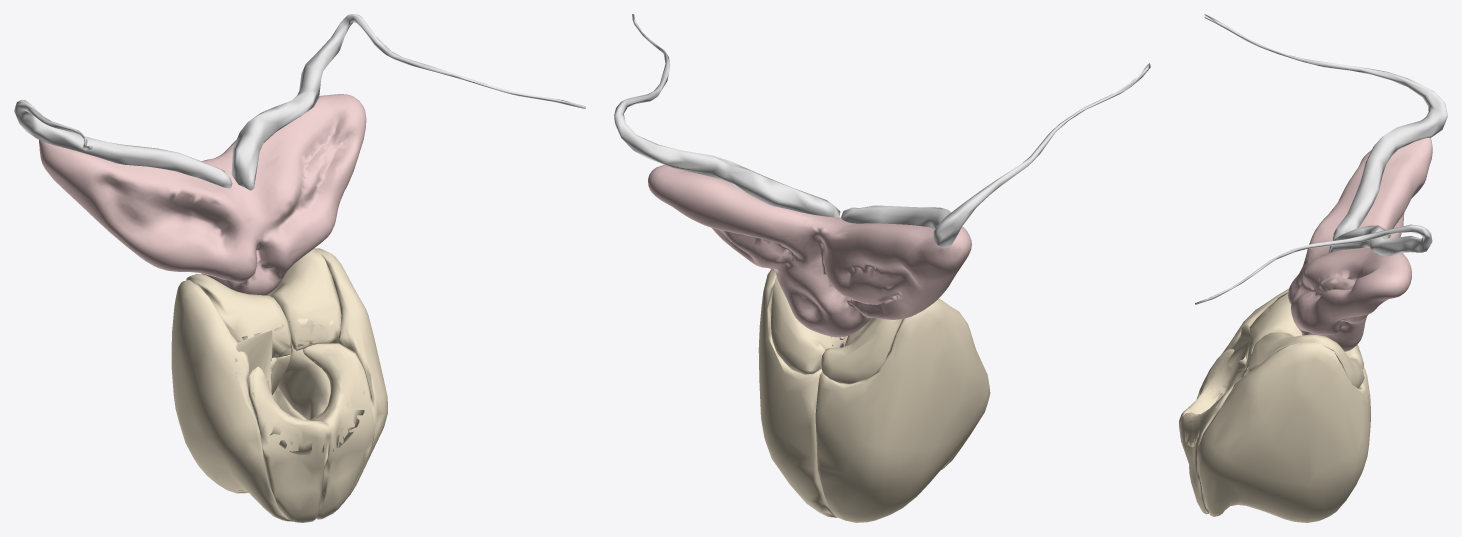
The model's file is vh_m_prostate-40.fbx.
3 views of the same model, side by side, from view 1: azimuth 30°, elevation 25°; view 2: azimuth 150°, elevation 25°; view 3: azimuth 270°, elevation 25° (orthographic). The views are drawn at different scales.
Parts seen in each view (by area): view 1: VH_M_seminal_vesicle, VH_M_peripheral_zone_of_prostate_R, VH_M_anterior_fibromuscular_stroma_R, VH_M_anterior_fibromuscular_stroma_L, VH_M_vas_deferens_R, VH_M_base_of_prostate, VH_M_vas_deferens_L, VH_M_central_zone_of_prostate_L, VH_M_peripheral_zone_of_prostate_L, VH_M_central_zone_of_prostate_R, VH_M_transition_zone__of_prostate_L; view 2: VH_M_peripheral_zone_of_prostate_R, VH_M_seminal_vesicle, VH_M_peripheral_zone_of_prostate_L, VH_M_vas_deferens_R, VH_M_vas_deferens_L, VH_M_central_zone_of_prostate_R, VH_M_central_zone_of_prostate_L; view 3: VH_M_peripheral_zone_of_prostate_L, VH_M_seminal_vesicle, VH_M_vas_deferens_L, VH_M_vas_deferens_R, VH_M_central_zone_of_prostate_L, VH_M_base_of_prostate, VH_M_central_zone_of_prostate_R, VH_M_anterior_fibromuscular_stroma_L, VH_M_anterior_fibromuscular_stroma_R, VH_M_peripheral_zone_of_prostate_R.
Part boxes in pixels (x1=…): VH_M_seminal_vesicle: x1=39, y1=94, x2=366, y2=295; VH_M_peripheral_zone_of_prostate_R: x1=171, y1=280, x2=293, y2=521; VH_M_anterior_fibromuscular_stroma_R: x1=248, y1=357, x2=329, y2=522; VH_M_anterior_fibromuscular_stroma_L: x1=303, y1=343, x2=375, y2=519; VH_M_vas_deferens_R: x1=231, y1=14, x2=585, y2=190; VH_M_base_of_prostate: x1=235, y1=317, x2=364, y2=454; VH_M_vas_deferens_L: x1=14, y1=100, x2=232, y2=188; VH_M_central_zone_of_prostate_L: x1=267, y1=248, x2=341, y2=387; VH_M_peripheral_zone_of_prostate_L: x1=272, y1=248, x2=387, y2=498; VH_M_central_zone_of_prostate_R: x1=186, y1=273, x2=292, y2=357; VH_M_transition_zone__of_prostate_L: x1=277, y1=344, x2=330, y2=419; VH_M_peripheral_zone_of_prostate_R: x1=815, y1=299, x2=990, y2=522; VH_M_seminal_vesicle: x1=648, y1=165, x2=971, y2=337; VH_M_peripheral_zone_of_prostate_L: x1=758, y1=269, x2=836, y2=517; VH_M_vas_deferens_R: x1=614, y1=14, x2=840, y2=217; VH_M_vas_deferens_L: x1=841, y1=63, x2=1150, y2=247; VH_M_central_zone_of_prostate_R: x1=820, y1=318, x2=901, y2=383; VH_M_central_zone_of_prostate_L: x1=771, y1=277, x2=847, y2=374; VH_M_peripheral_zone_of_prostate_L: x1=1197, y1=342, x2=1370, y2=522; VH_M_seminal_vesicle: x1=1288, y1=137, x2=1432, y2=351; VH_M_vas_deferens_L: x1=1204, y1=14, x2=1447, y2=240; VH_M_vas_deferens_R: x1=1195, y1=224, x2=1432, y2=304; VH_M_central_zone_of_prostate_L: x1=1241, y1=332, x2=1364, y2=388; VH_M_base_of_prostate: x1=1181, y1=324, x2=1254, y2=446; VH_M_central_zone_of_prostate_R: x1=1245, y1=291, x2=1363, y2=369; VH_M_anterior_fibromuscular_stroma_L: x1=1180, y1=380, x2=1238, y2=514; VH_M_anterior_fibromuscular_stroma_R: x1=1179, y1=349, x2=1246, y2=442; VH_M_peripheral_zone_of_prostate_R: x1=1199, y1=288, x2=1370, y2=407.
Bounding box in the file's own units: 8.28 × 7.06 × 4.28.
